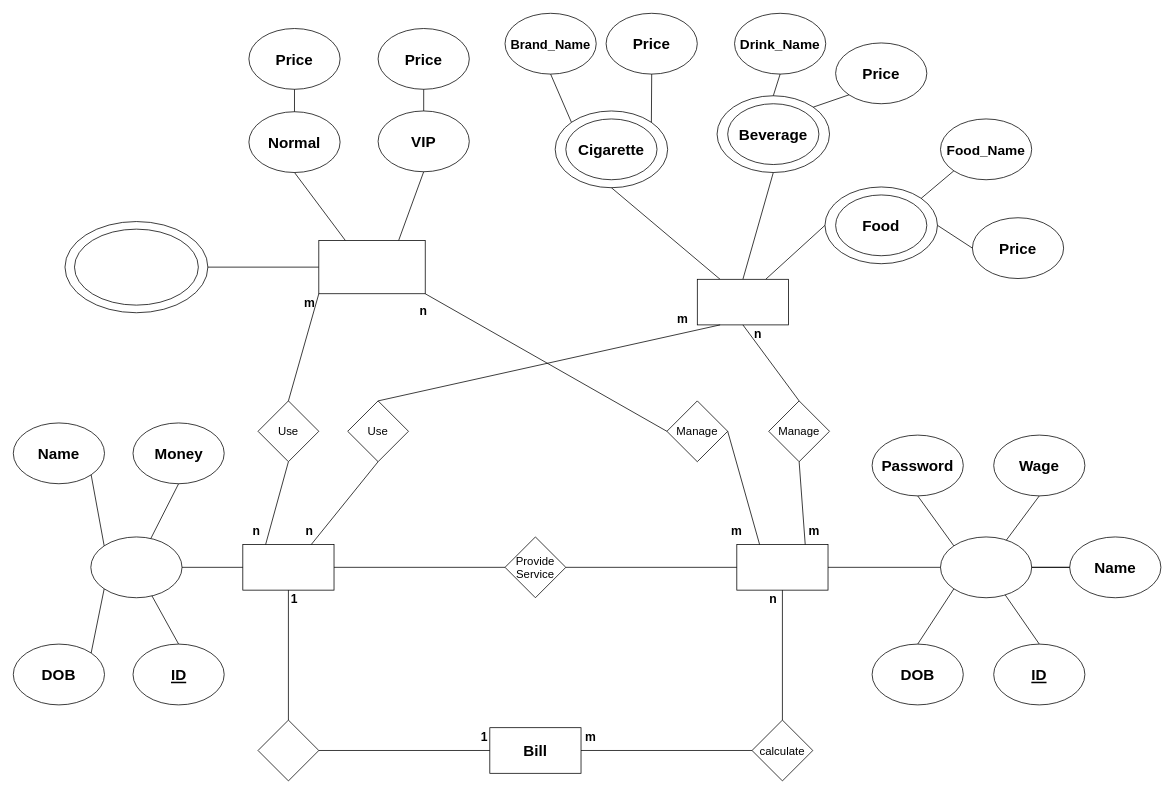
Image size: 1174x794. Some labels were removed from this diagram. Each missing label, with the centre of its shape:
Admin: the point at 782,567
Admin_account: the point at 986,567
Computer: the point at 371,267
Game_Details: the point at 136,266
Inventory: the point at 742,302
Pay: the point at 288,750
User: the point at 288,567
User_account: the point at 136,567
